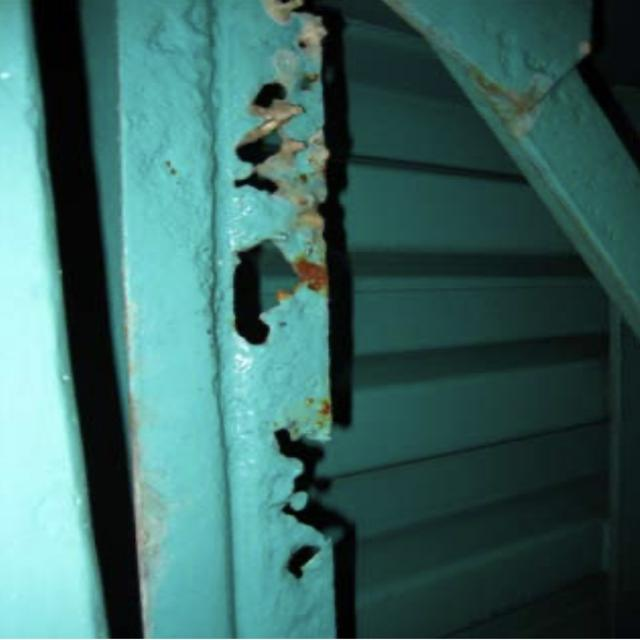corrosion: (242, 0, 392, 599)
